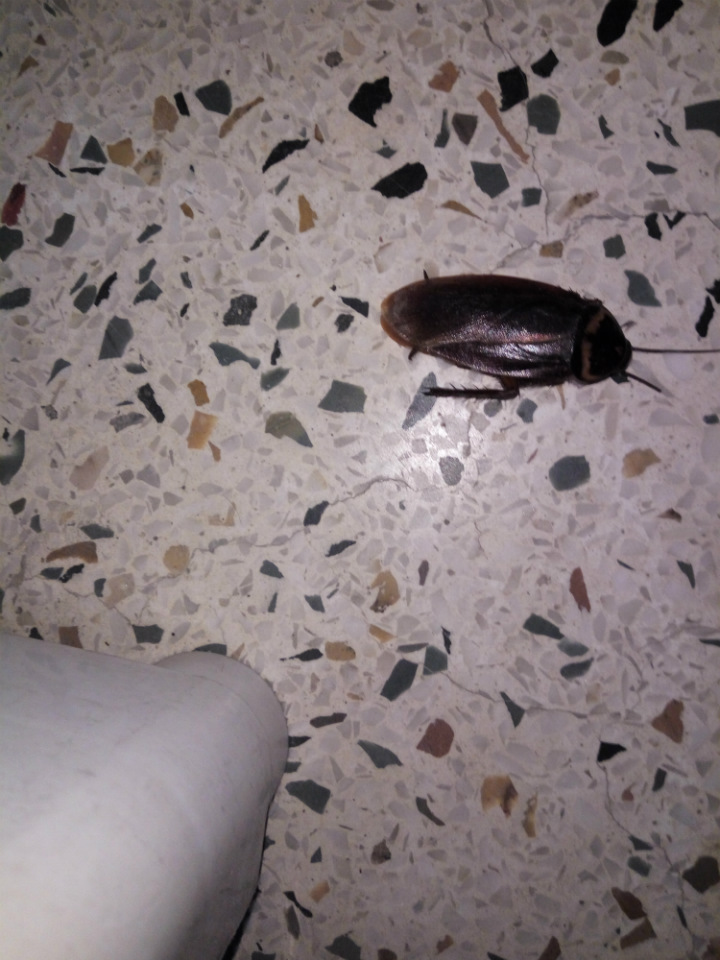cockroach: (260, 200, 720, 450)
